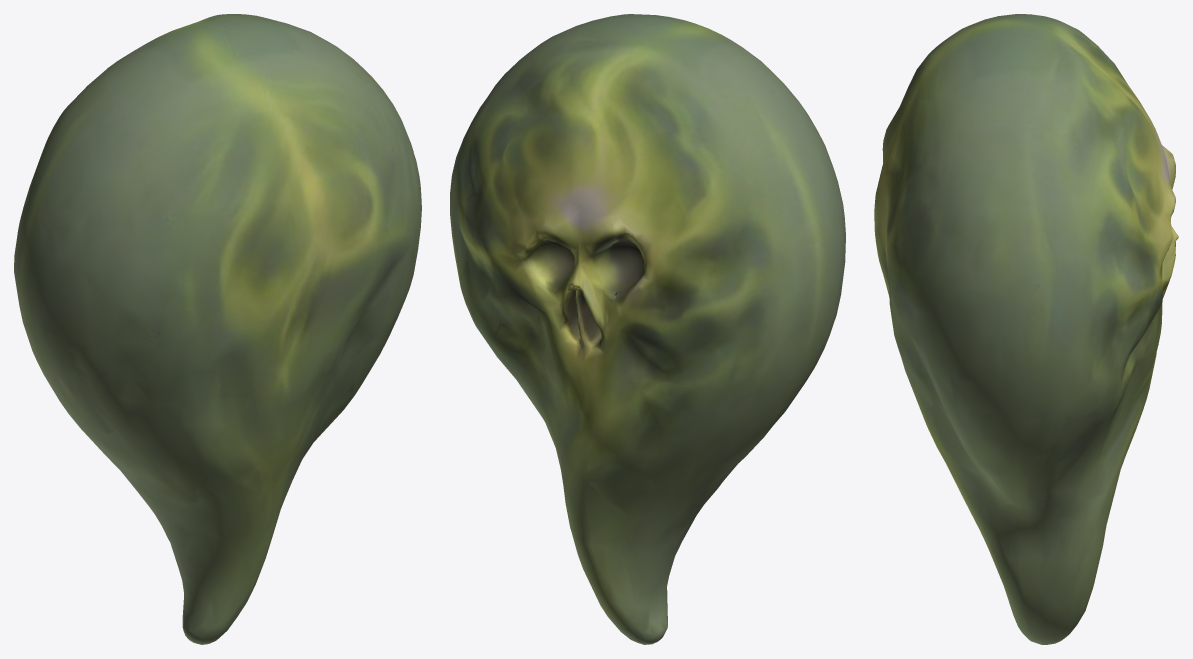
Rendered from corpse_light.glb.
3 renders of one model, left to right at view 1: azimuth 30°, elevation 25°; view 2: azimuth 150°, elevation 25°; view 3: azimuth 270°, elevation 25°, orthographic. The views are drawn at different scales.
Visible parts, largest first — view 1: tripo_node_1551afd2-20ca-4024-a2ce-8f6d304c700e; view 2: tripo_node_1551afd2-20ca-4024-a2ce-8f6d304c700e; view 3: tripo_node_1551afd2-20ca-4024-a2ce-8f6d304c700e.
Boxes of the visible parts, x1,y1,x2,y2 form: tripo_node_1551afd2-20ca-4024-a2ce-8f6d304c700e: (14, 14, 421, 644); tripo_node_1551afd2-20ca-4024-a2ce-8f6d304c700e: (450, 14, 845, 644); tripo_node_1551afd2-20ca-4024-a2ce-8f6d304c700e: (874, 14, 1178, 644).
Size of the model in its own units: 0.8204 by 1.3 by 0.5827.
1 material, 1 textured.
